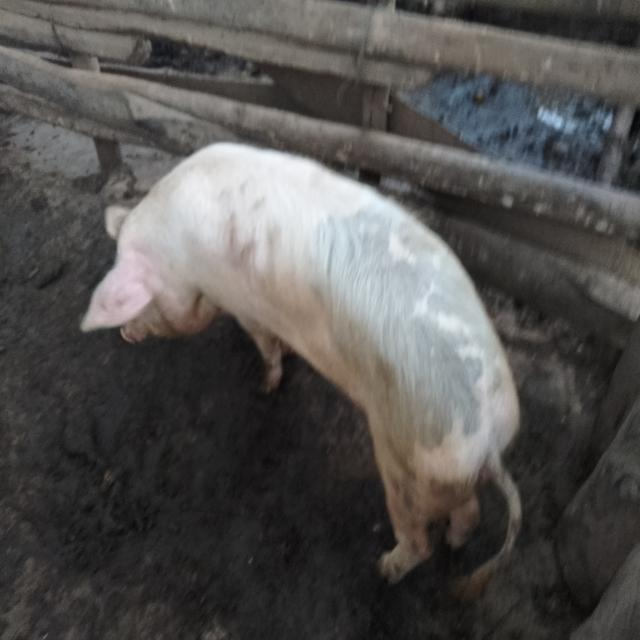pig: (46, 74, 593, 640)
